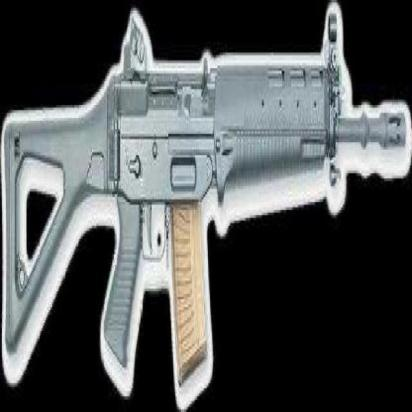Gun: (0, 22, 405, 410)
